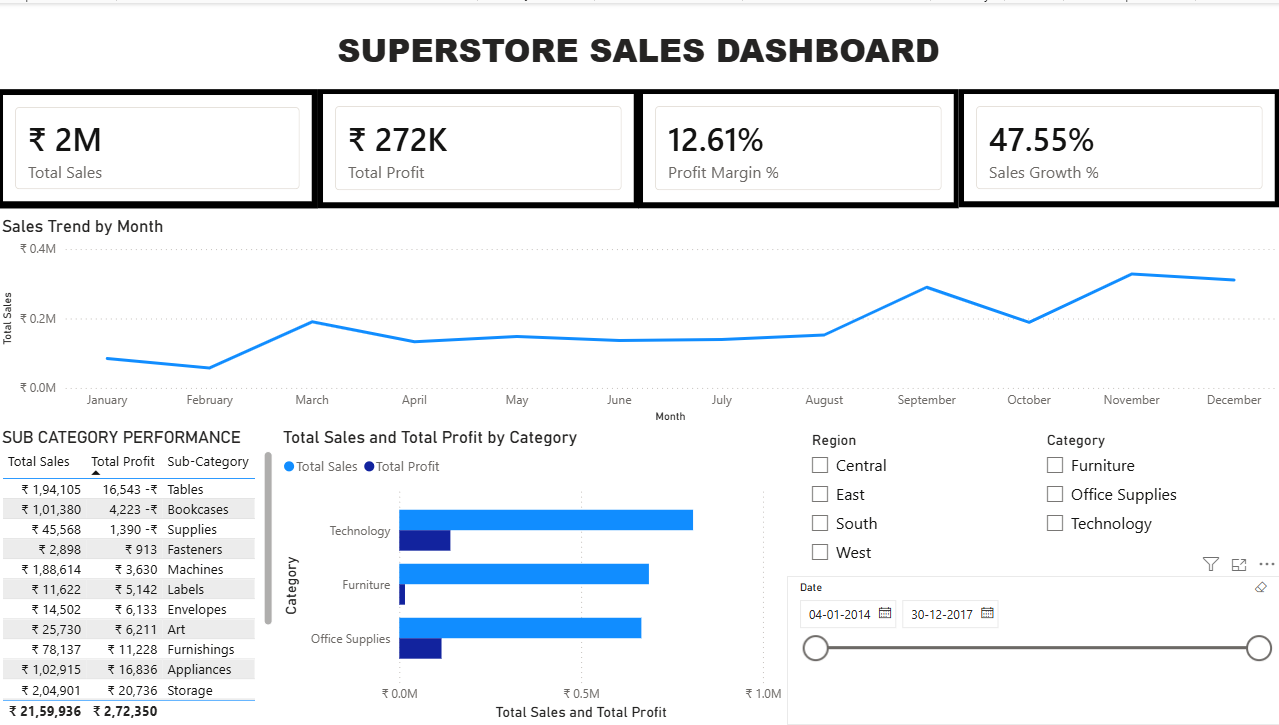

What the dashboard file says about the page in this screenshot:
{"tool":"powerbi","page":{"name":"Page 1","canvas":[1280,720],"ordinal":0},"visuals":[{"type":"cardVisual","fields":{"Data":["DateTable.Total Sales"]},"box":[0,85.8,320,118.7],"z":0},{"type":"cardVisual","fields":{"Data":["DateTable.Total Profit"]},"box":[320.2,85.8,320.2,118.7],"z":1000},{"type":"cardVisual","fields":{"Data":["DateTable.Profit Margin %"]},"box":[639.5,85.8,320.2,118.7],"z":2000},{"type":"cardVisual","fields":{"Data":["DateTable.Sales Growth %"]},"box":[959.8,85.8,320.2,117.7],"z":3000},{"type":"lineChart","title":"Sales Trend by Month","fields":{"Y":["DateTable.Total Sales"],"Category":["DateTable.Date.Variation.Date Hierarchy.Month"]},"box":[0,212.5,1280,210.5],"z":4000},{"type":"clusteredBarChart","fields":{"Y":["DateTable.Total Sales","DateTable.Total Profit"],"Category":["orders_cleaned.Category"]},"box":[280.3,423,507.8,297.3],"z":5000},{"type":"tableEx","title":"SUB CATEGORY PERFORMANCE","fields":{"Values":["DateTable.Total Sales","DateTable.Total Profit","orders_cleaned.Sub-Category"]},"box":[0,423,280.3,297.3],"z":5001},{"type":"slicer","fields":{"Values":["orders_cleaned.Region"]},"box":[800.1,423,225.5,162.6],"z":5002},{"type":"slicer","fields":{"Values":["orders_cleaned.Category"]},"box":[1034.6,423,245.4,148.7],"z":5003},{"type":"slicer","fields":{"Values":["DateTable.Date"]},"box":[788.2,571.7,491.8,148.7],"z":5004},{"type":"textbox","box":[0,19,1280,66.8],"z":5005}]}

Visuals, with their boxes in screenshot pixels (x1, y1, x2, y2), scaled from the page's 1280x720 canvas onto the 1279x725 screenshot:
cardVisual - DateTable.Total Sales: 0/86/320/206
cardVisual - DateTable.Total Profit: 320/86/640/206
cardVisual - DateTable.Profit Margin %: 639/86/959/206
cardVisual - DateTable.Sales Growth %: 959/86/1278/205
"Sales Trend by Month" lineChart: 0/214/1278/426
clusteredBarChart - DateTable.Total Sales x DateTable.Total Profit: 280/426/787/724
"SUB CATEGORY PERFORMANCE" tableEx: 0/426/280/724
slicer - orders_cleaned.Region: 799/426/1025/590
slicer - orders_cleaned.Category: 1034/426/1278/576
slicer - DateTable.Date: 788/576/1278/724
textbox: 0/19/1278/86
